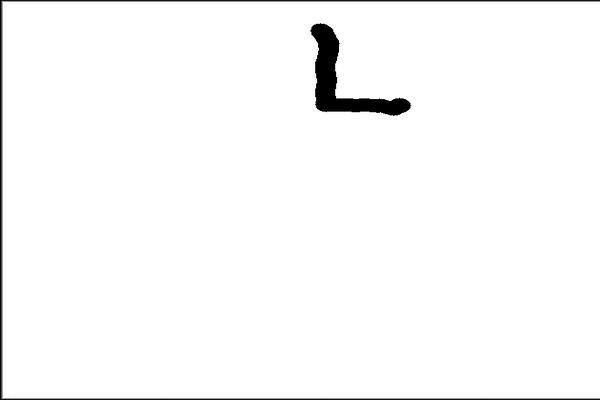L: (297, 17, 419, 127)
